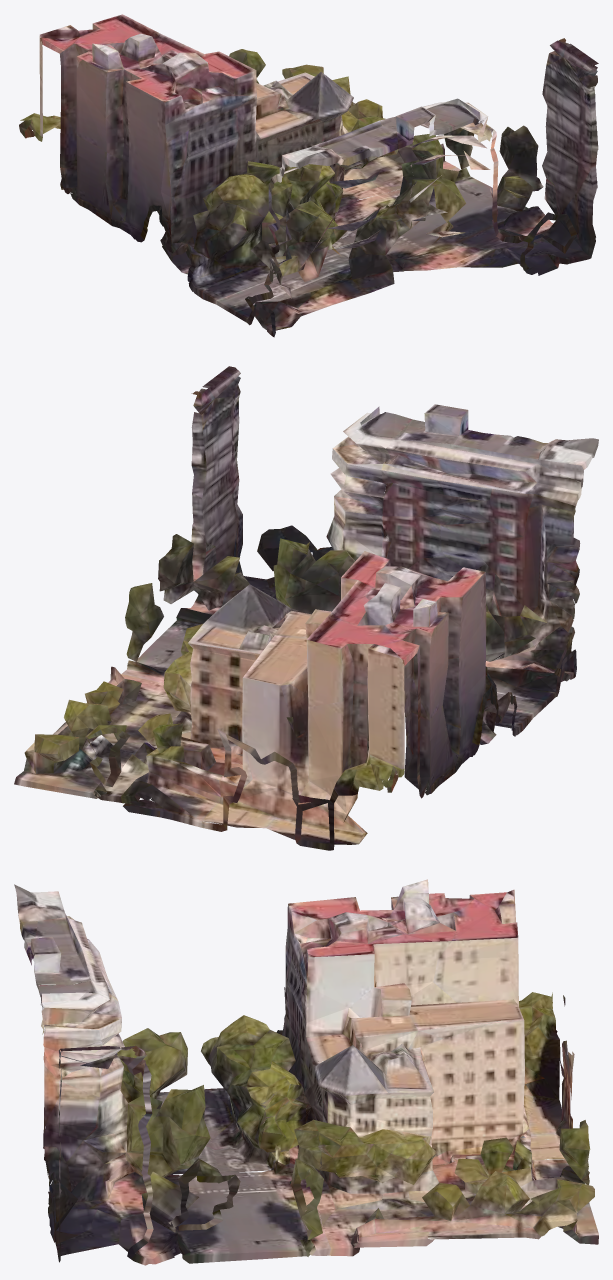
3 views of the same model, one above another, from view 1: azimuth 30°, elevation 25°; view 2: azimuth 150°, elevation 25°; view 3: azimuth 270°, elevation 25° (orthographic). The views are drawn at different scales.
Visible parts, largest first — view 1: Mesh_0; view 2: Mesh_0; view 3: Mesh_0.
Boxes of the visible parts, box(x1,y1,x2,y2) form: Mesh_0: box(19, 14, 598, 337); Mesh_0: box(14, 366, 598, 850); Mesh_0: box(14, 879, 598, 1265).
Bounding box in the file's own units: 67.25 × 35.59 × 82.43.
1 material, 1 textured.
